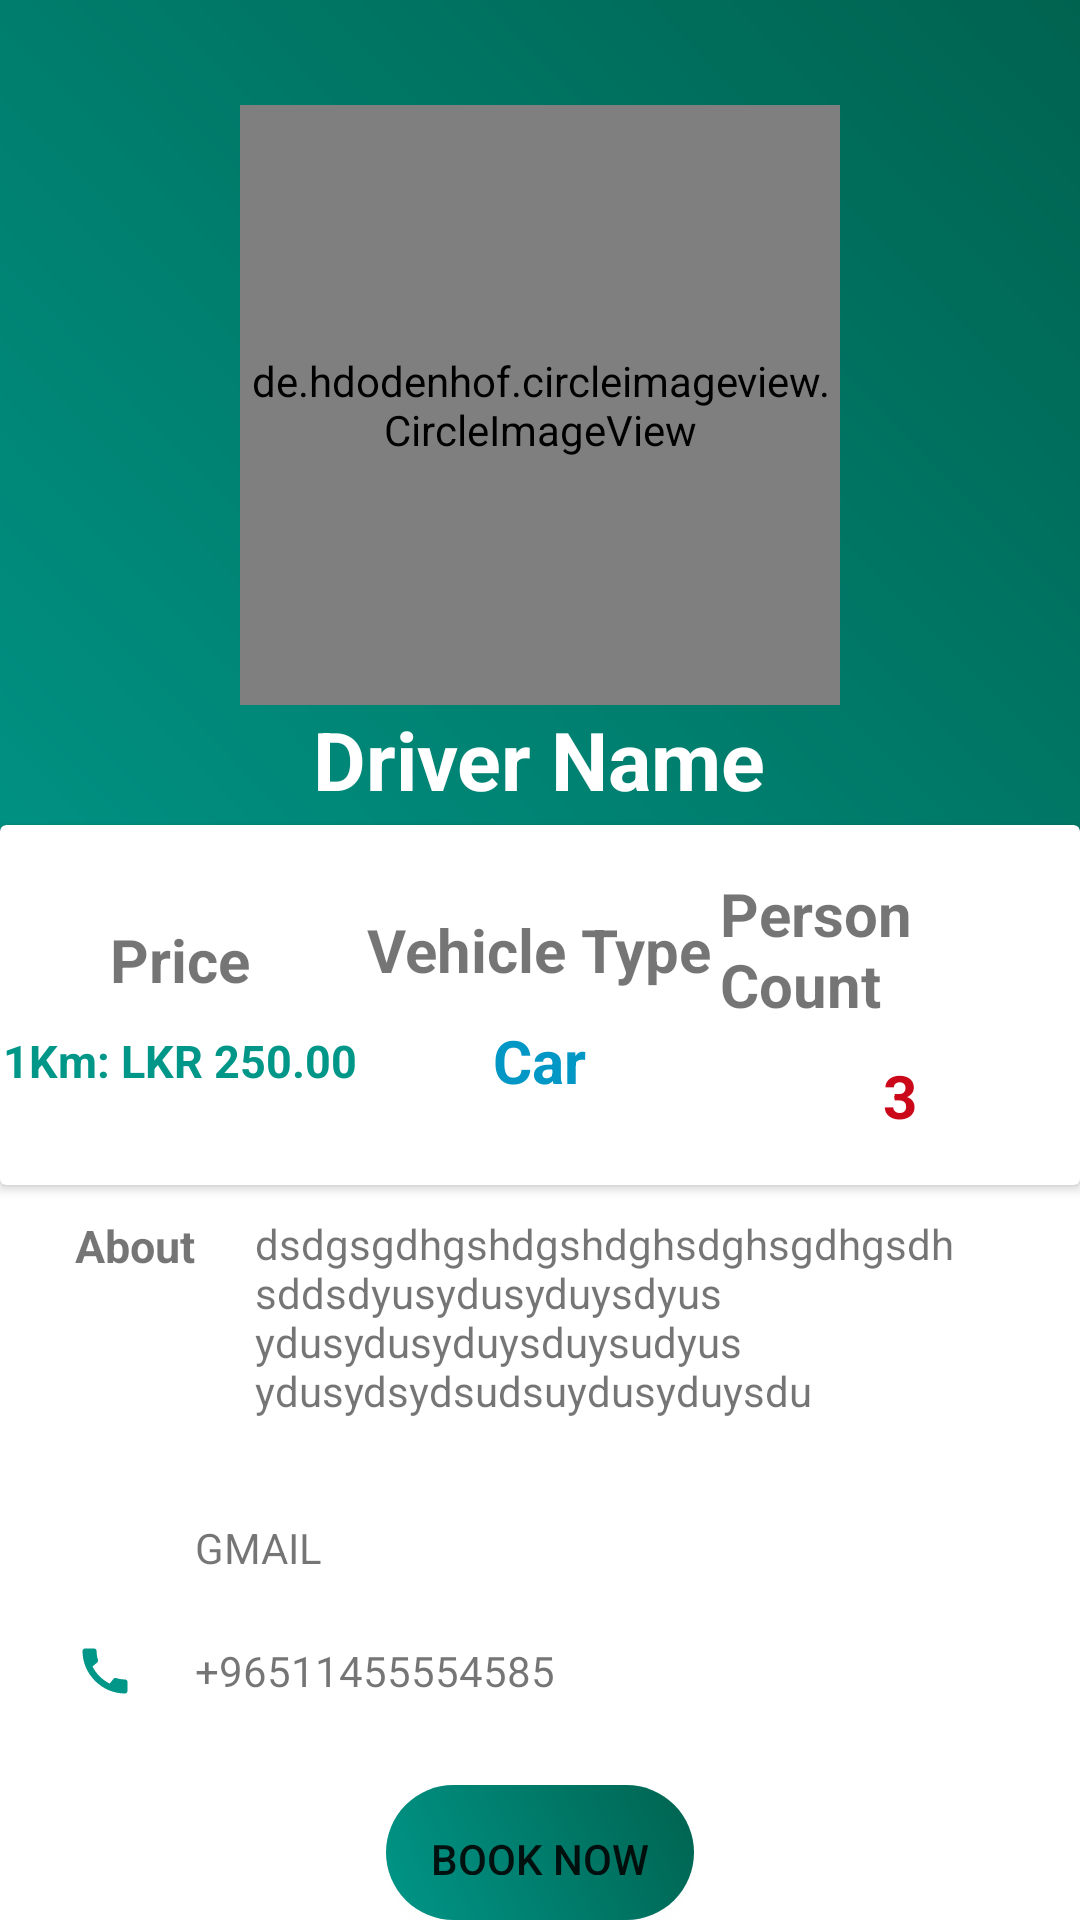

Where icons sit on this 1080w x 1920h app screen, as (x1, y1, x2, y2):
call: (82, 1648, 128, 1694)
